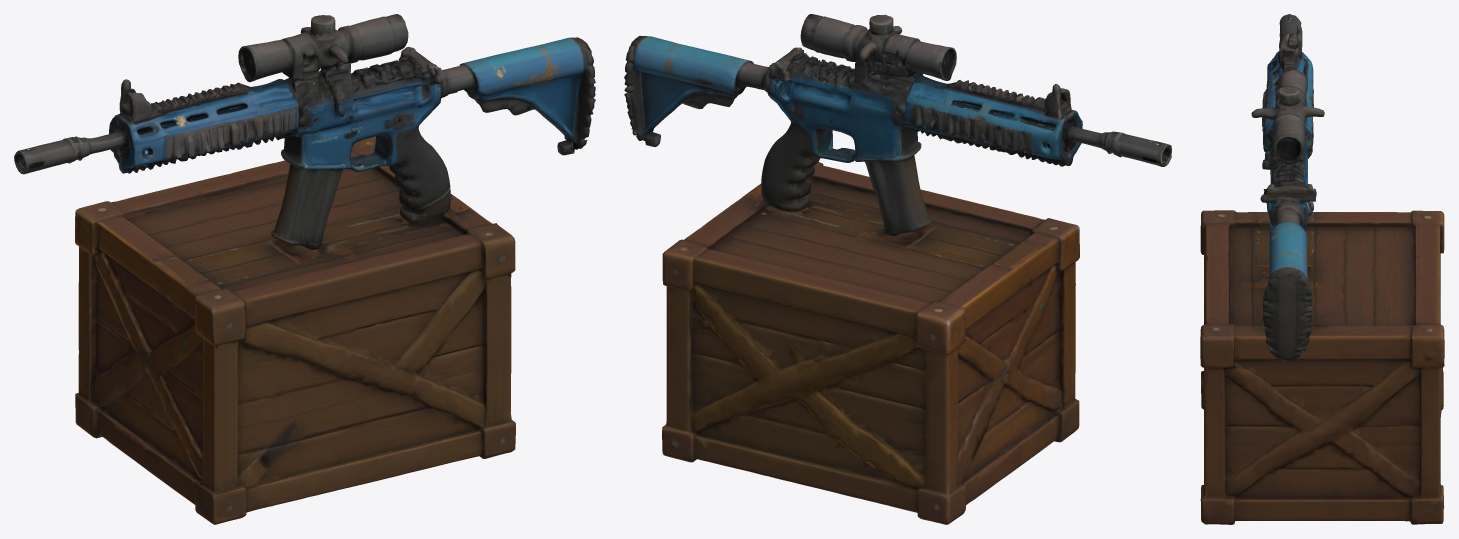
File: Cracked_Lightning_Rif_compressed.glb
The picture shows the model from 3 angles, left to right: view 1: azimuth 30°, elevation 25°; view 2: azimuth 150°, elevation 25°; view 3: azimuth 270°, elevation 25°; orthographic projection. The views are drawn at different scales.
Bounding box in the file's own units: 2 × 1.47 × 0.8653.
Materials: 1 (1 with a texture image).
